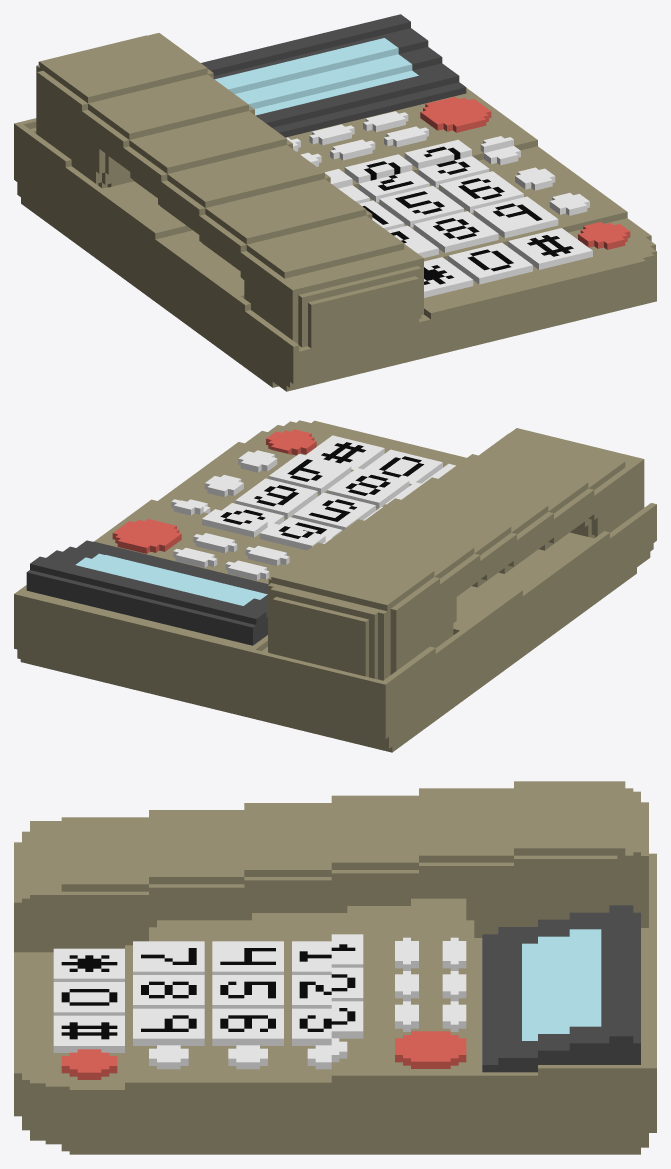
The model's file is Telephone1.fbx.
3 renders of one model, top to bottom at view 1: azimuth 30°, elevation 25°; view 2: azimuth 150°, elevation 25°; view 3: azimuth 270°, elevation 25°, orthographic. The views are drawn at different scales.
Visible parts, largest first — view 1: Telephone1.001, Telephone1; view 2: Telephone1.001, Telephone1; view 3: Telephone1.001, Telephone1.
Part boxes in pixels (x1=…): Telephone1.001: x1=14, y1=14, x2=656, y2=391; Telephone1: x1=36, y1=33, x2=423, y2=348; Telephone1.001: x1=14, y1=420, x2=656, y2=752; Telephone1: x1=268, y1=428, x2=644, y2=680; Telephone1.001: x1=14, y1=853, x2=656, y2=1154; Telephone1: x1=14, y1=781, x2=648, y2=952.
Bounding box in the file's own units: 6.4 × 2.4 × 8.1.
